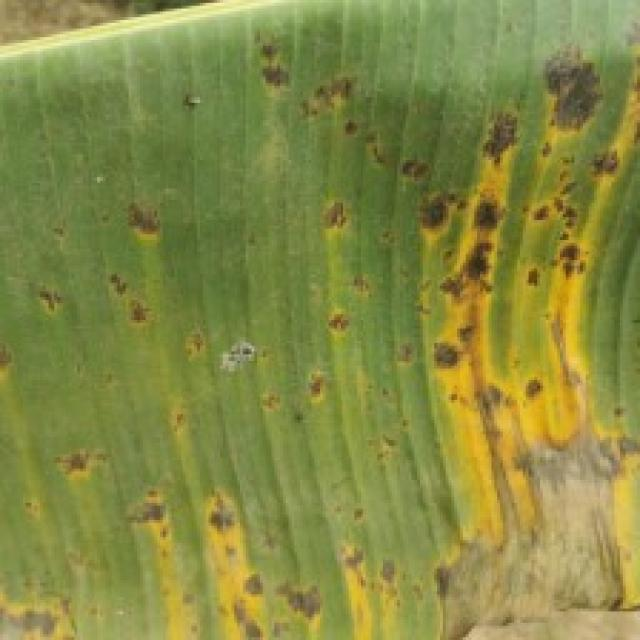Downey_mildrew: (0, 30, 640, 640)
